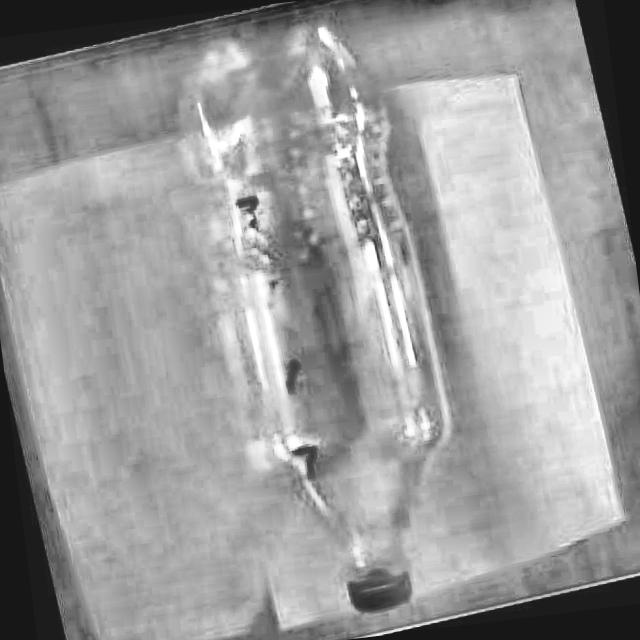plastic bottle: (187, 27, 448, 610)
